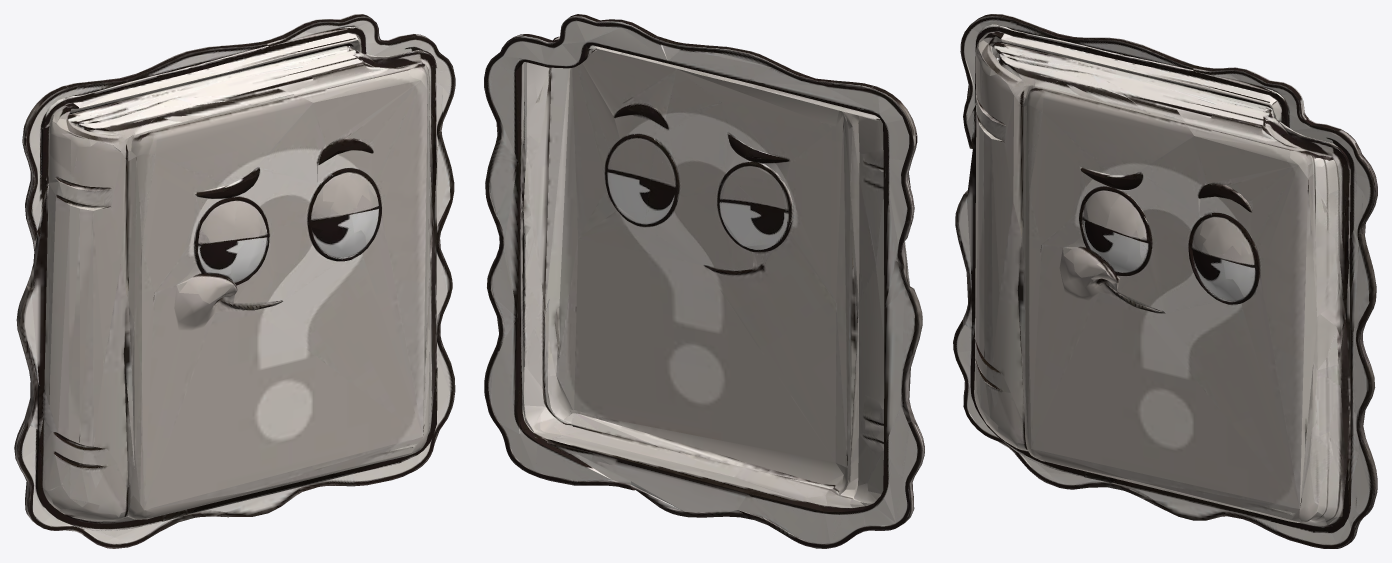
The model's file is creep_rumour.glb.
3 renders of one model, left to right at view 1: azimuth 30°, elevation 25°; view 2: azimuth 150°, elevation 25°; view 3: azimuth 330°, elevation 25°, orthographic. The views are drawn at different scales.
Bounding box in the file's own units: 1.82 × 1.9 × 0.2392.
1 material, 1 textured.
